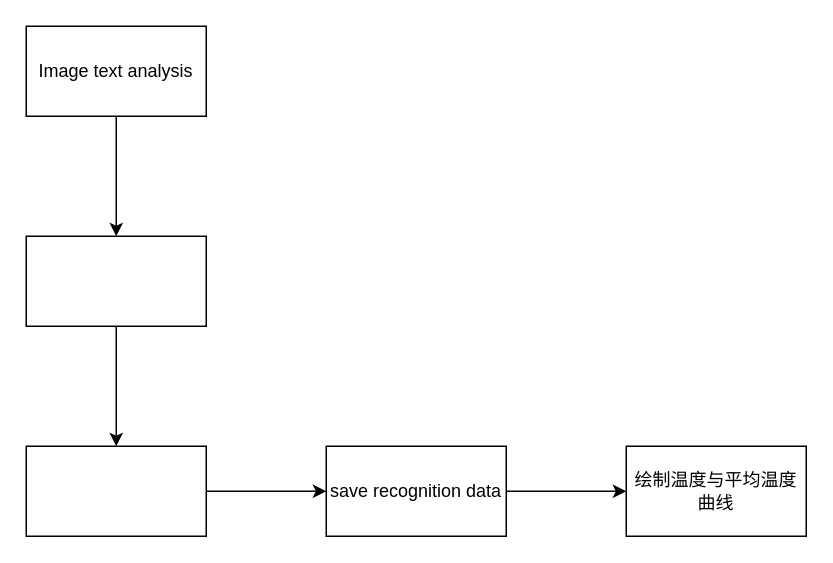
Image size: 833x563. Some labels were removed from this diagram. The shapes that lost their labels are listed below. From the top down, each one's centre as x and y in pixels, then its label:
(x=115, y=280): Image segmentation
(x=115, y=490): image Optical Character Recognition
